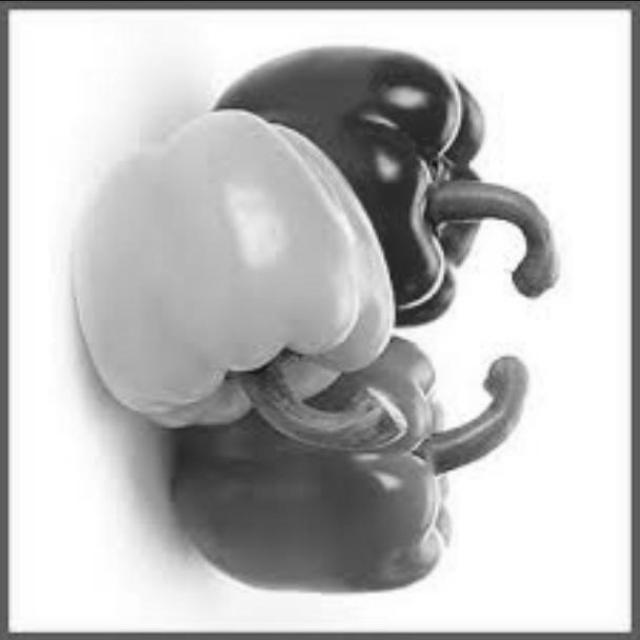ot chuong: (70, 101, 397, 419), (157, 326, 527, 600), (183, 45, 502, 322)
